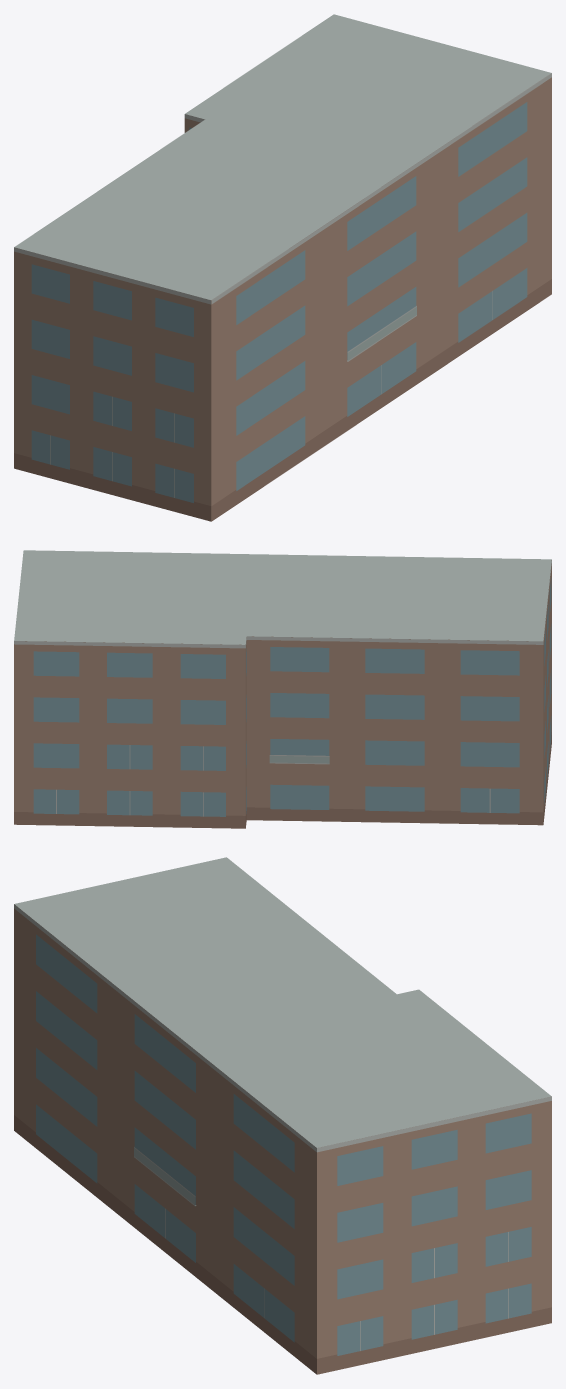
Rendered from survey-upis-32839758.glb.
The picture shows the model from 3 angles, top to bottom: view 1: azimuth 30°, elevation 25°; view 2: azimuth 150°, elevation 25°; view 3: azimuth 270°, elevation 25°; orthographic projection. The views are drawn at different scales.
Visible parts, largest first — view 1: survey-upis-32839758.tmp; view 2: survey-upis-32839758.tmp; view 3: survey-upis-32839758.tmp.
Boxes of the visible parts, left/top/right/bottom form: survey-upis-32839758.tmp: left=14, top=14, right=551, bottom=521; survey-upis-32839758.tmp: left=14, top=550, right=551, bottom=828; survey-upis-32839758.tmp: left=14, top=857, right=551, bottom=1374.
Size of the model in its own units: 34.68 by 12.6 by 27.1.
